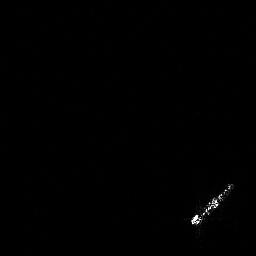ship: (189, 180, 236, 226)
